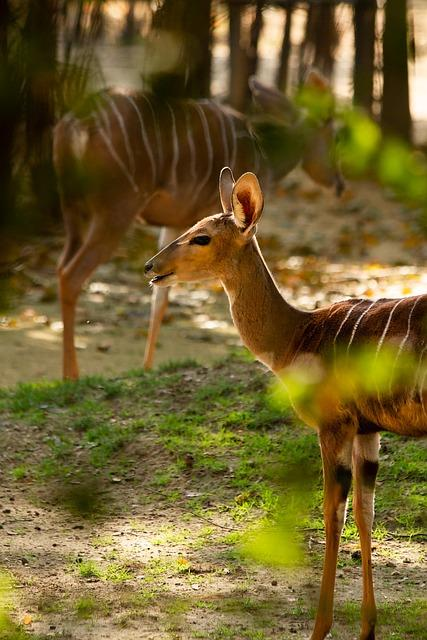Non_Gorille: (38, 30, 427, 627)
